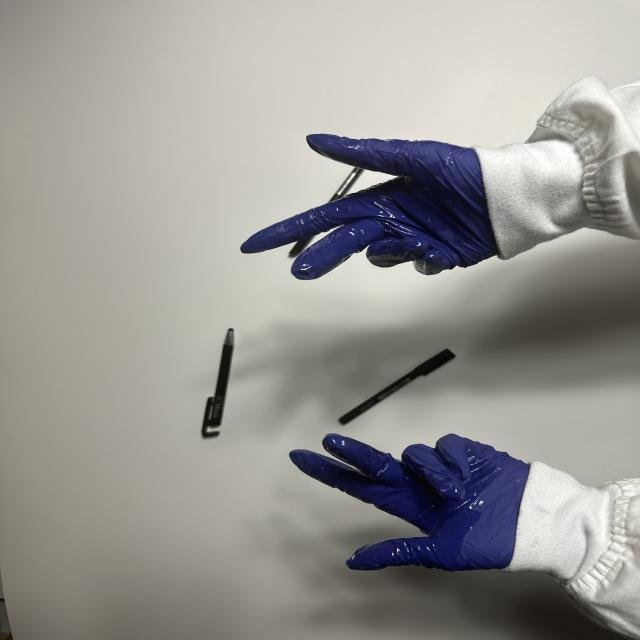gloves_contaminated: (241, 134, 498, 280), (290, 434, 529, 571)
